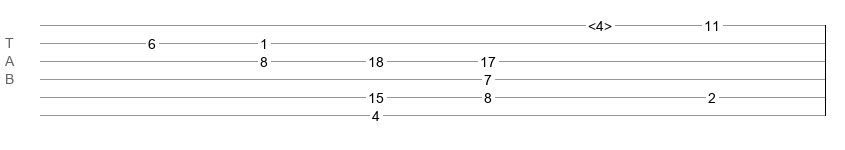1: (260, 36, 268, 46)
11: (704, 18, 720, 28)
15: (368, 90, 384, 100)
17: (480, 54, 496, 64)
18: (368, 54, 384, 64)
2: (708, 90, 716, 100)
4: (372, 108, 380, 118)
6: (148, 36, 156, 46)
7: (484, 72, 492, 82)
8: (260, 54, 268, 64), (484, 90, 492, 100)
harmonic: (588, 18, 612, 28)
